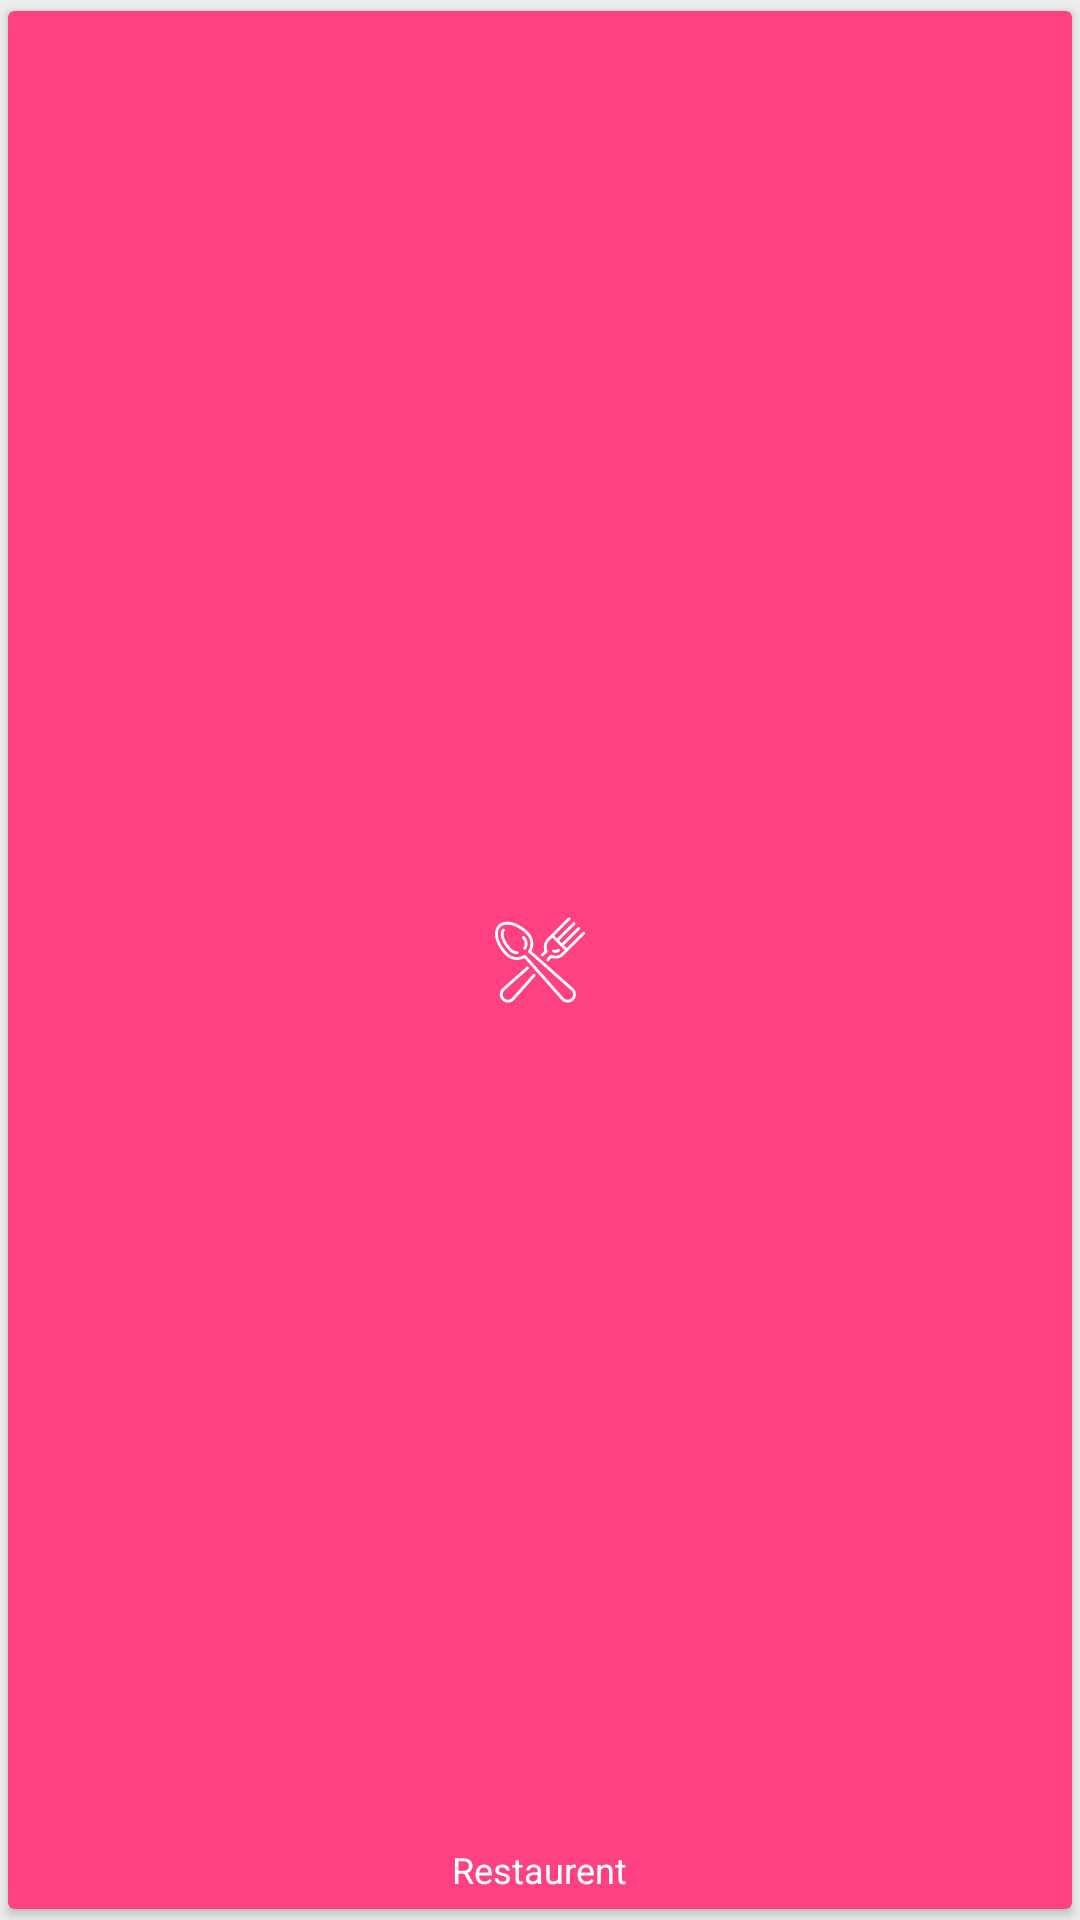

Icon bounding boxes for this 1080×1920 phone screenshot, format BBox(x1, y1, x2, y2):
restaurent: BBox(495, 917, 585, 1003)
